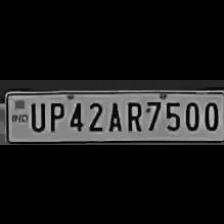0: (201, 98, 221, 130), (182, 98, 200, 130)
2: (84, 98, 104, 132)
4: (64, 97, 84, 130)
5: (161, 97, 181, 130)
7: (142, 97, 160, 131)
A: (105, 97, 123, 130)
P: (46, 98, 64, 132)
R: (123, 97, 143, 131)
U: (27, 99, 45, 131)
